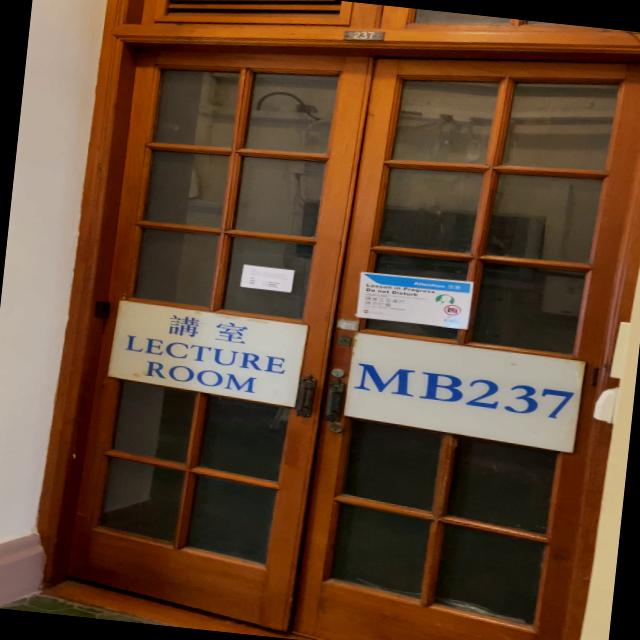room237: (342, 28, 388, 42)
room237Window: (346, 332, 586, 442)
